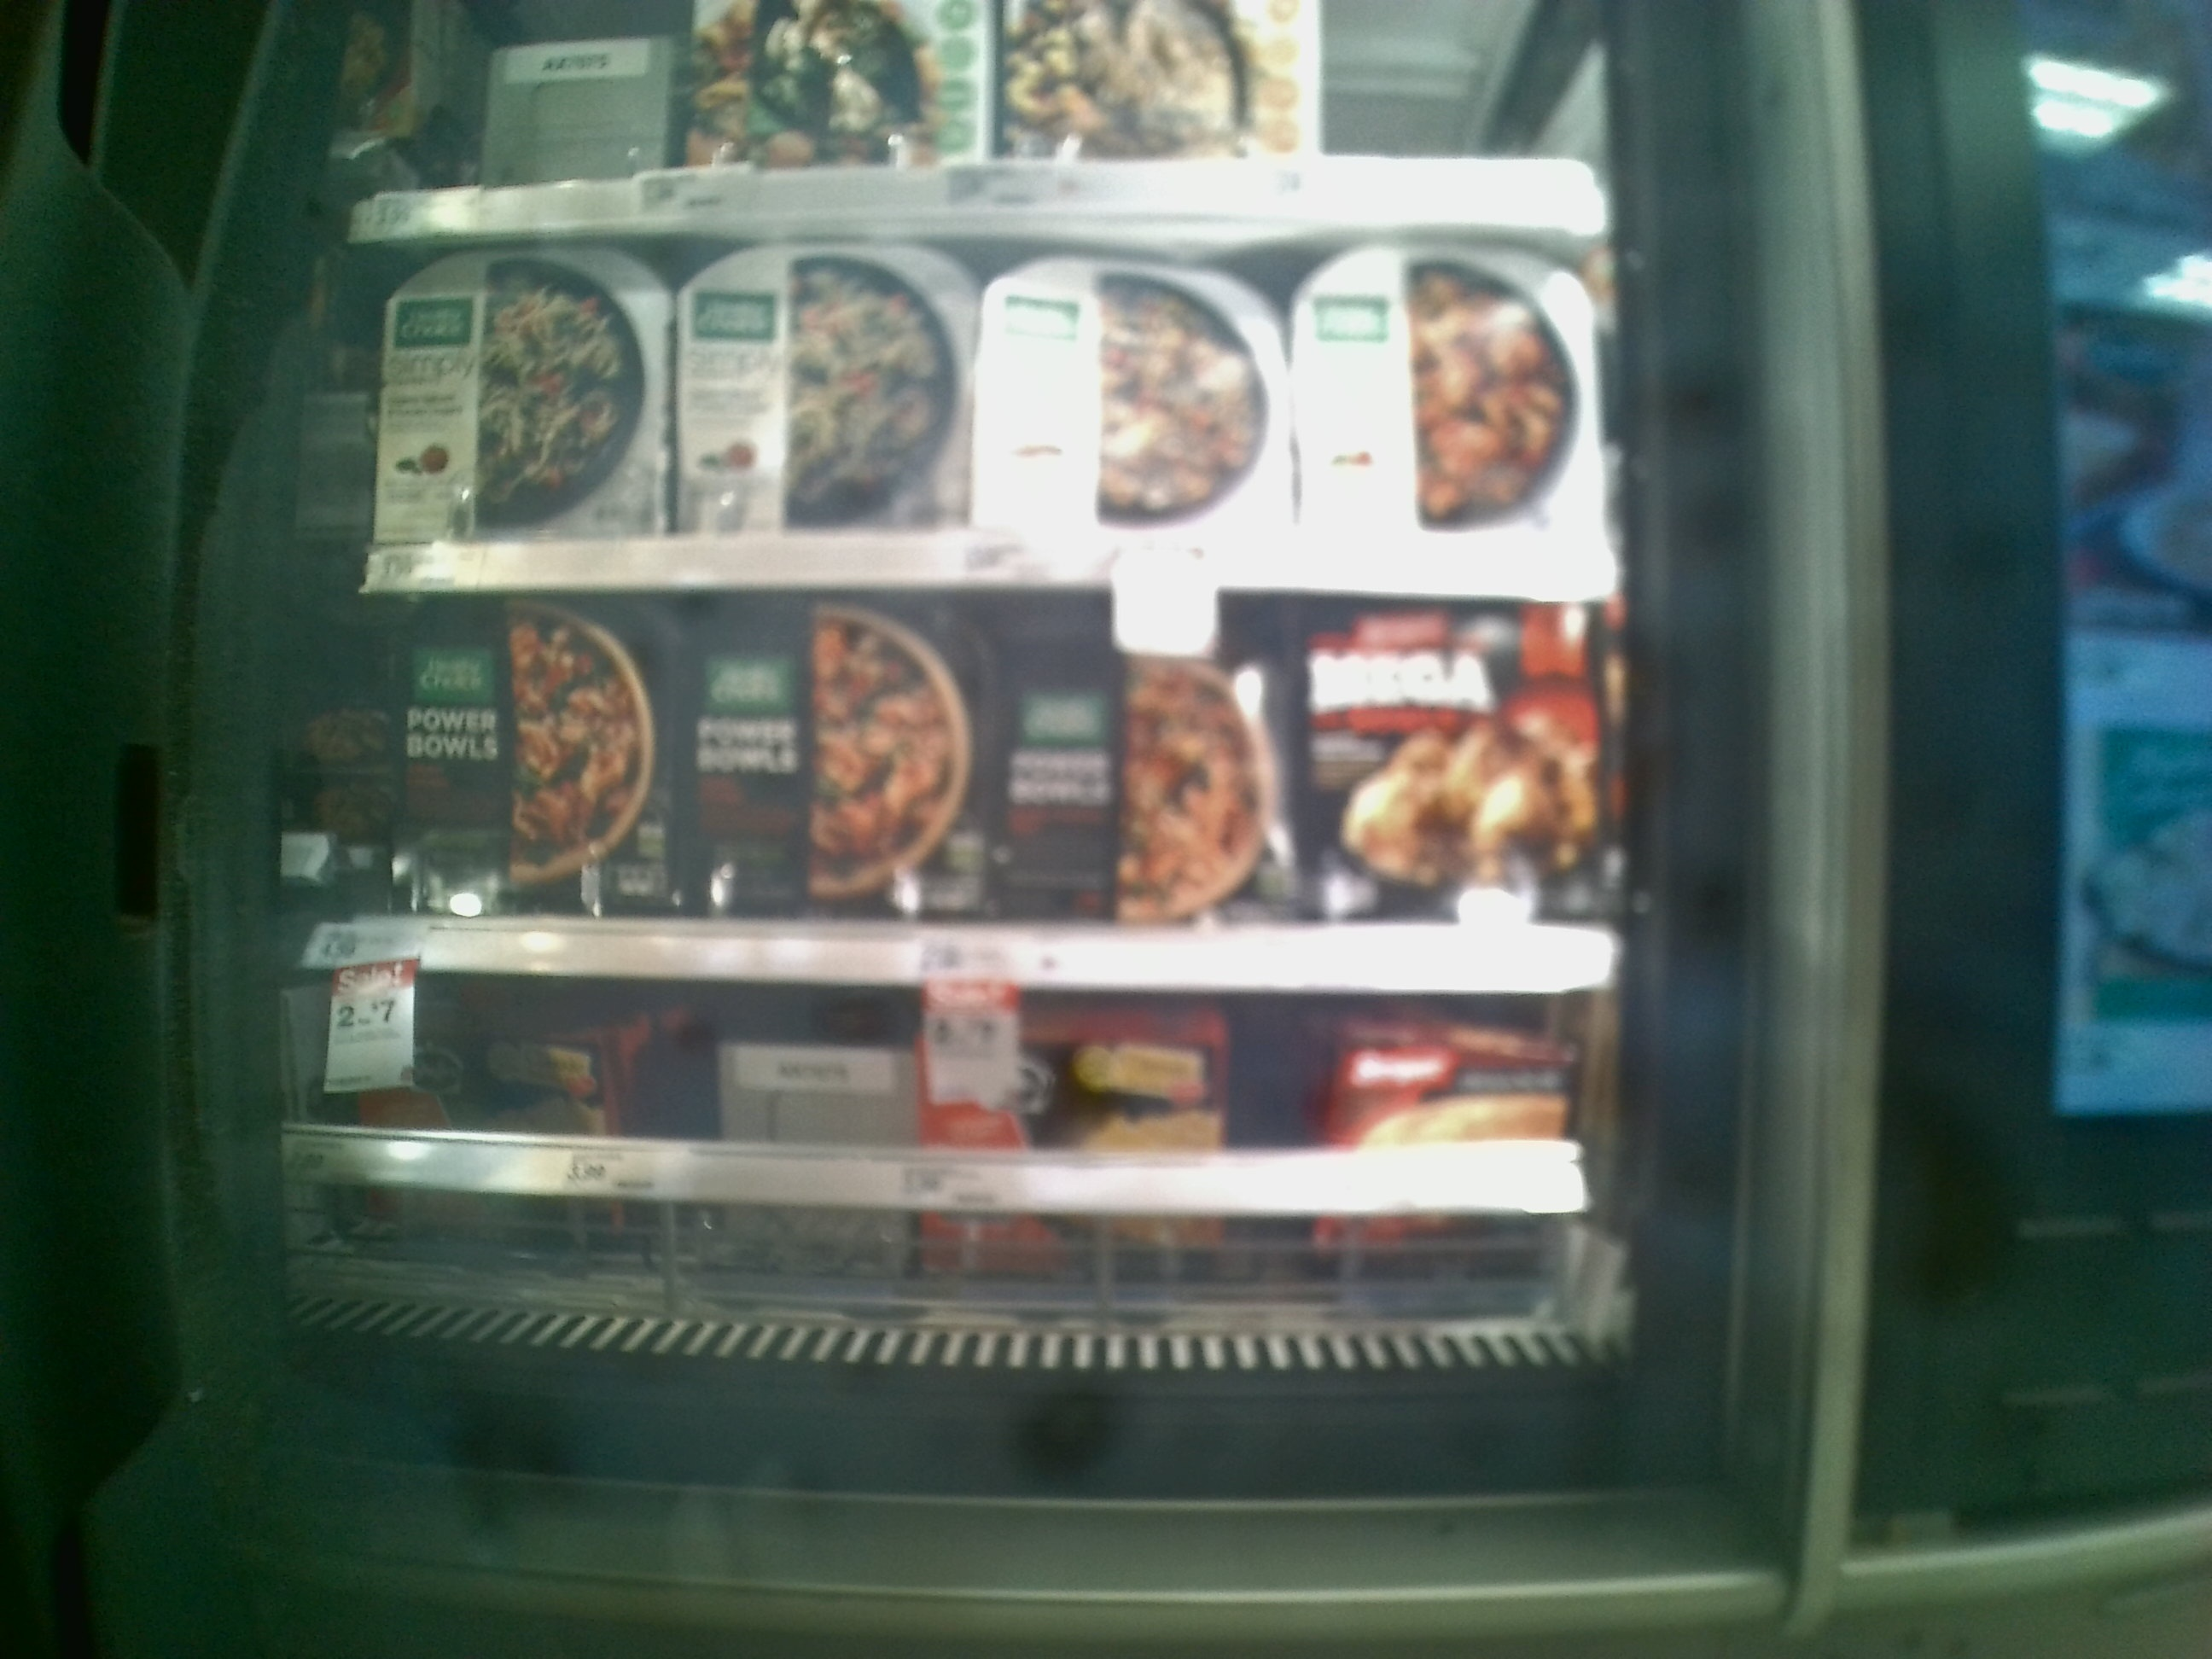shelf: (350, 586, 1627, 990), (334, 234, 1622, 603), (305, 1006, 1580, 1335)
